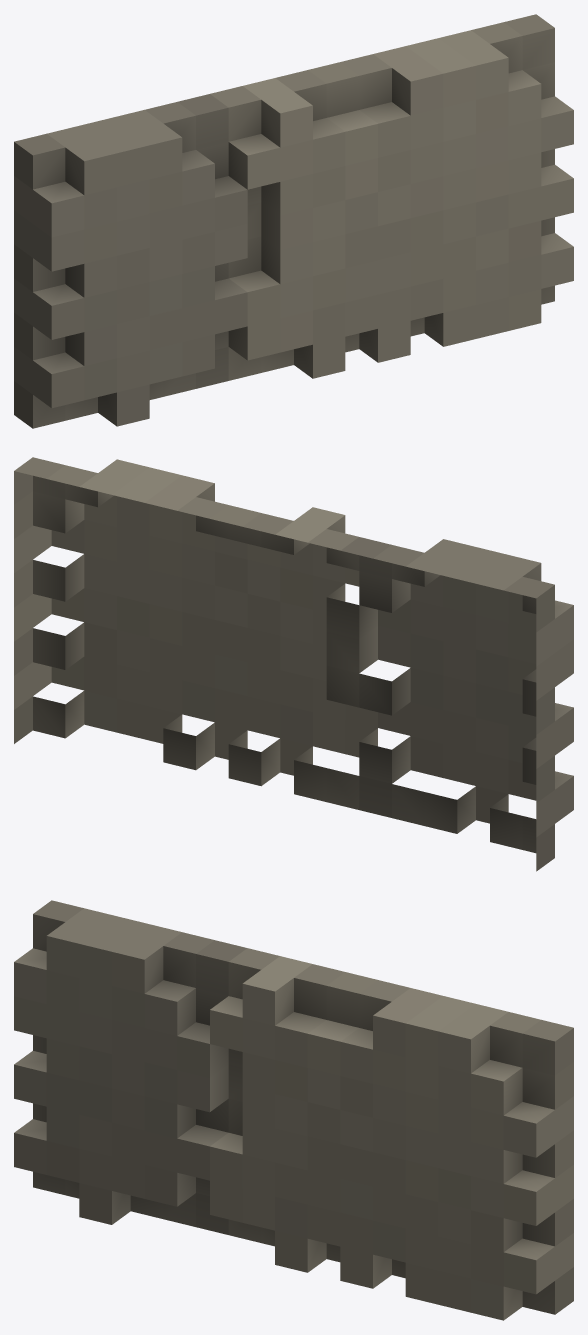
File: ashlar_plain_3.glb
3 renders of one model, top to bottom at view 1: azimuth 30°, elevation 25°; view 2: azimuth 150°, elevation 25°; view 3: azimuth 330°, elevation 25°, orthographic.
Visible parts, largest first — view 1: ashlar_plain_3; view 2: ashlar_plain_3; view 3: ashlar_plain_3.
Boxes of the visible parts, bbox=[...] form: ashlar_plain_3: bbox=[14, 14, 573, 428]; ashlar_plain_3: bbox=[14, 457, 573, 871]; ashlar_plain_3: bbox=[14, 900, 573, 1320].
Bounding box in the file's own units: 1 × 0.5 × 0.125.
